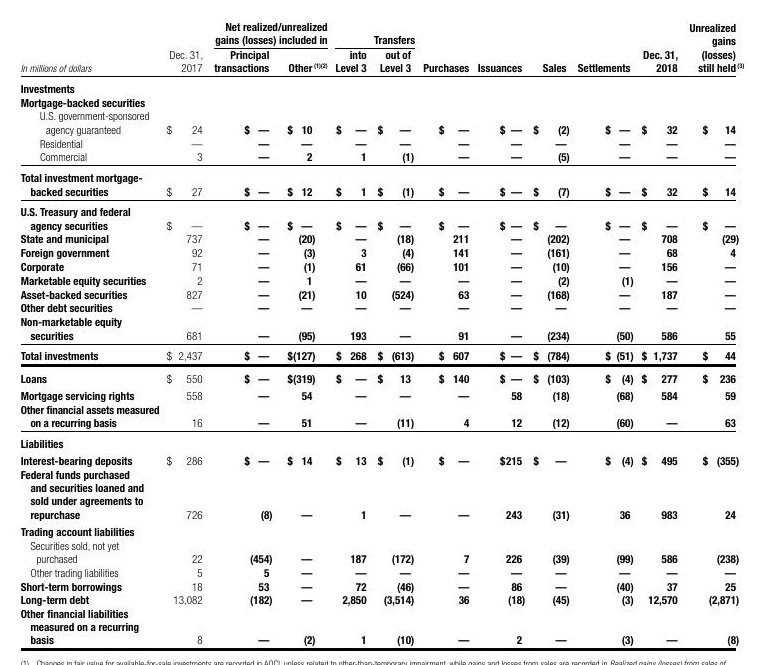table: (0, 0, 761, 665)
